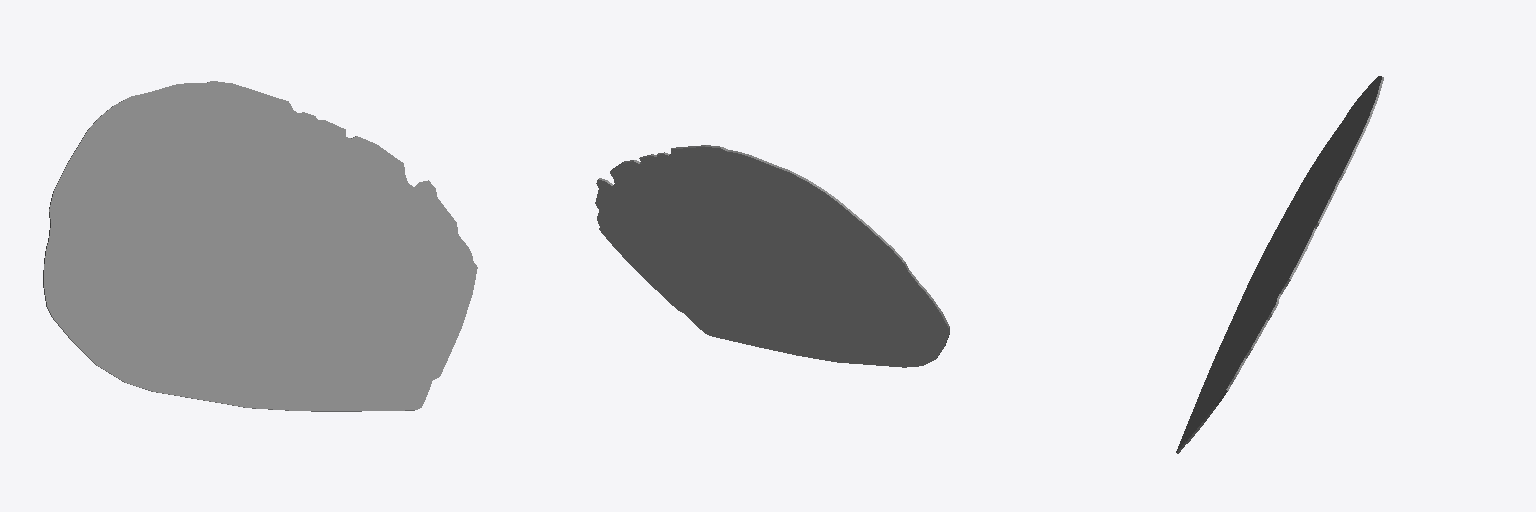
The model's file is SliceofHam.obj.
3 views of the same model, side by side, from view 1: azimuth 30°, elevation 25°; view 2: azimuth 150°, elevation 25°; view 3: azimuth 270°, elevation 25° (orthographic).
Parts seen in each view (by area): view 1: SliceofHam; view 2: SliceofHam; view 3: SliceofHam.
Boxes of the visible parts, x1,y1,x2,y2 form: SliceofHam: [43, 81, 477, 411]; SliceofHam: [595, 145, 949, 367]; SliceofHam: [1176, 76, 1383, 453].
Bounding box in the file's own units: 5.78 × 4.07 × 2.66.